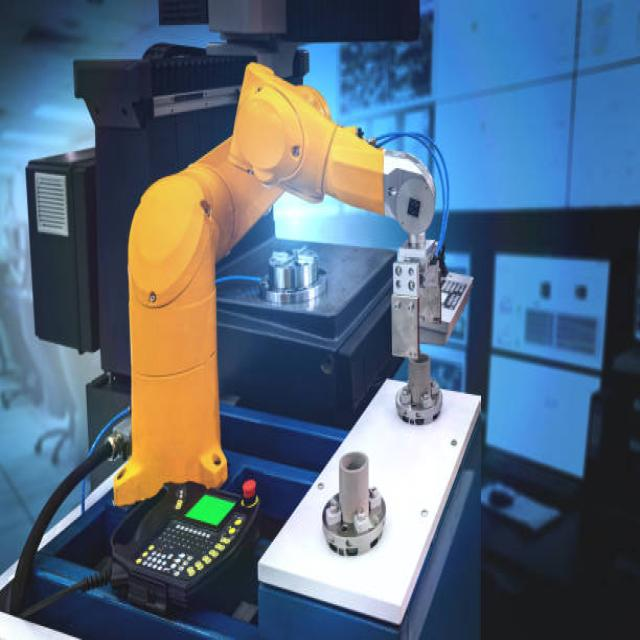Robotic-arm: (122, 47, 455, 502)
